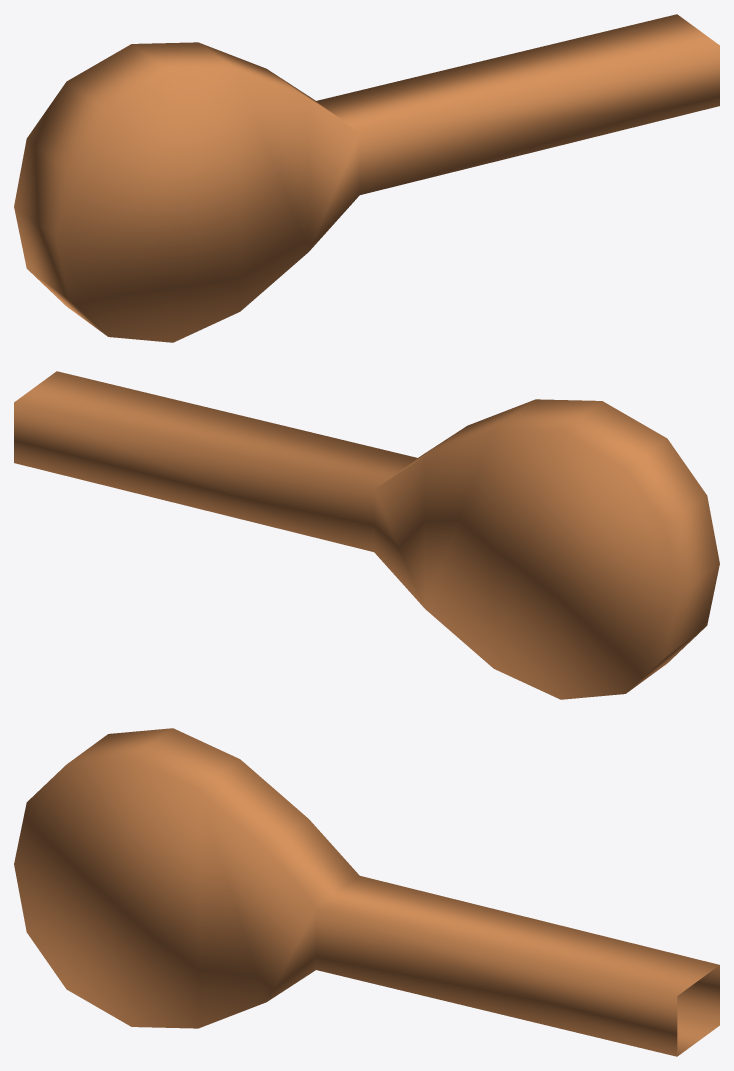
Rendered from Point.fbx.
3 renders of one model, top to bottom at view 1: azimuth 30°, elevation 25°; view 2: azimuth 150°, elevation 25°; view 3: azimuth 330°, elevation 25°, orthographic.
Visible parts, largest first — view 1: Point; view 2: Point; view 3: Point.
Part boxes in pixels (box(x1,y1,x2,y2)): Point: box(14, 14, 719, 342); Point: box(14, 371, 719, 699); Point: box(14, 728, 719, 1056).
Size of the model in its own units: 0.1516 by 0.0586 by 0.0173.
